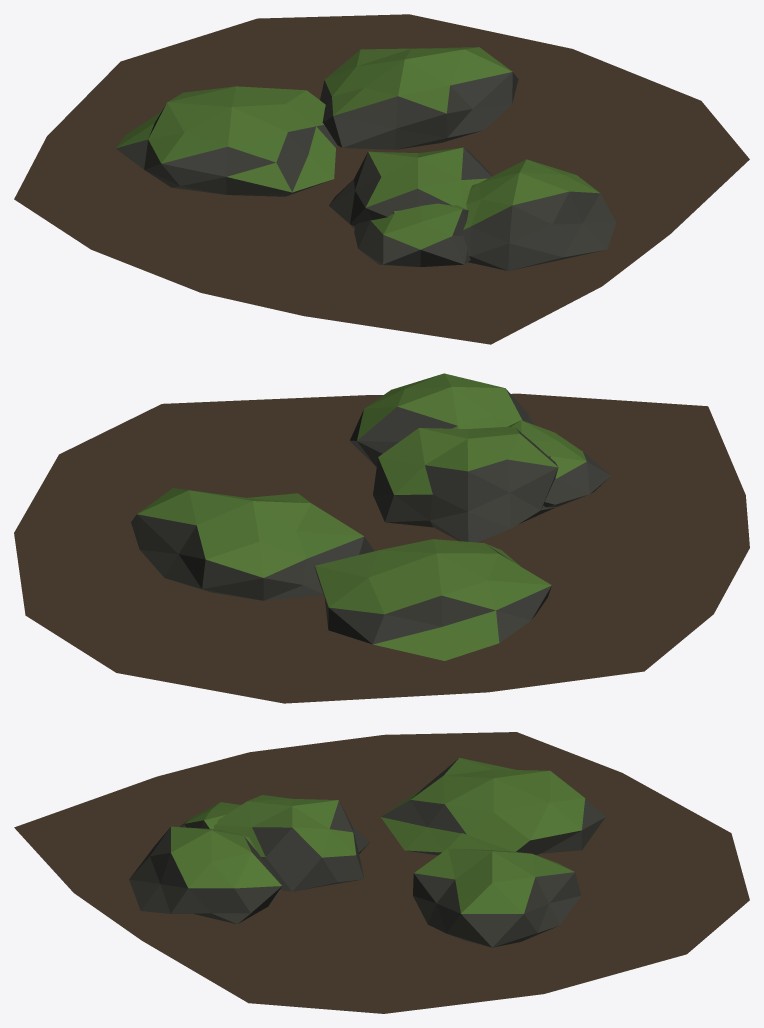
File: SW_Rock_MudStones.obj
3 renders of one model, top to bottom at view 1: azimuth 30°, elevation 25°; view 2: azimuth 150°, elevation 25°; view 3: azimuth 270°, elevation 25°, orthographic. The views are drawn at different scales.
Parts seen in each view (by area): view 1: mud, stone_3_top, stone_1, stone_4, stone_4_top, stone_3, stone_0_top, stone_1_top, stone_0, stone_2, stone_2_top; view 2: mud, stone_3_top, stone_4_top, stone_0, stone_4, stone_0_top, stone_1_top, stone_3, stone_1, stone_2, stone_2_top; view 3: mud, stone_3_top, stone_4, stone_4_top, stone_1, stone_1_top, stone_0_top, stone_0, stone_3, stone_2_top.
Boxes of the visible parts, <box> form: mud: <box>14,14,749,344</box>; stone_3_top: <box>116,86,335,192</box>; stone_1: <box>462,191,616,270</box>; stone_4: <box>320,72,518,149</box>; stone_4_top: <box>324,47,512,115</box>; stone_3: <box>116,105,336,196</box>; stone_0_top: <box>366,147,487,208</box>; stone_1_top: <box>463,159,599,229</box>; stone_0: <box>329,148,492,229</box>; stone_2: <box>354,209,470,267</box>; stone_2_top: <box>371,203,467,249</box>; mud: <box>14,393,749,703</box>; stone_3_top: <box>315,539,551,660</box>; stone_4_top: <box>137,488,363,577</box>; stone_0: <box>373,428,558,542</box>; stone_4: <box>131,514,374,600</box>; stone_0_top: <box>378,426,557,494</box>; stone_1_top: <box>357,373,522,440</box>; stone_3: <box>314,545,551,644</box>; stone_1: <box>350,389,534,466</box>; stone_2: <box>543,452,610,507</box>; stone_2_top: <box>508,420,586,478</box>; mud: <box>14,732,749,1013</box>; stone_3_top: <box>381,758,585,852</box>; stone_4: <box>413,872,581,947</box>; stone_4_top: <box>414,833,574,913</box>; stone_1: <box>129,827,281,924</box>; stone_1_top: <box>171,826,281,888</box>; stone_0_top: <box>213,795,356,857</box>; stone_0: <box>252,800,369,891</box>; stone_3: <box>381,759,605,855</box>; stone_2_top: <box>184,802,240,829</box>.
Bounding box in the file's own units: 10.59 × 1.02 × 11.68.
